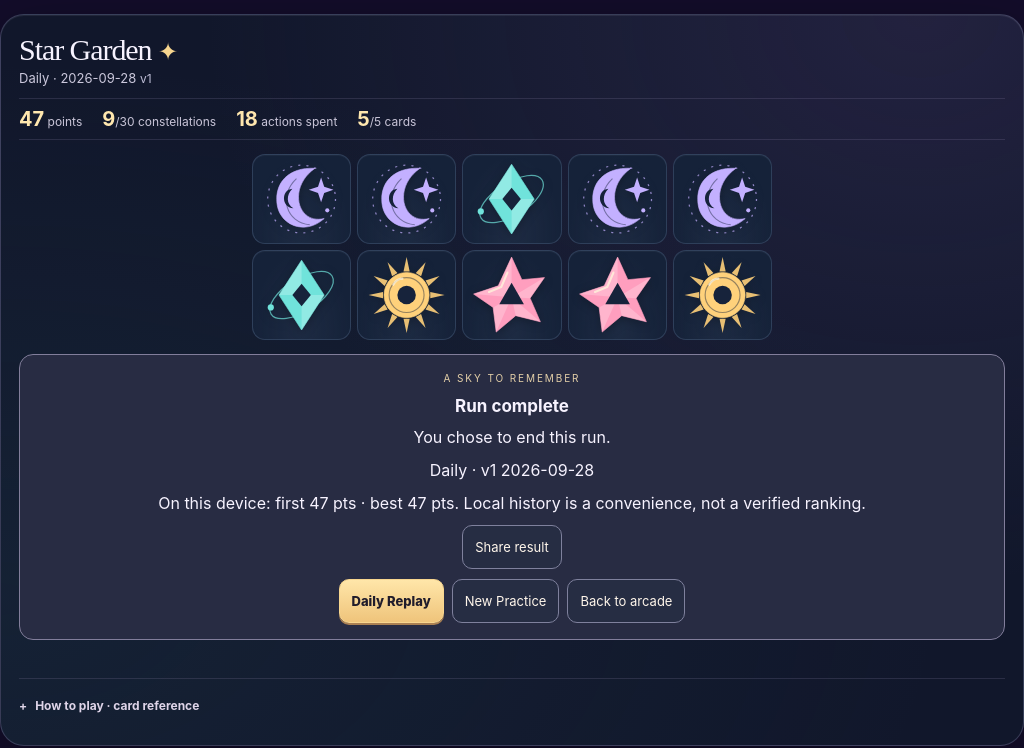
Test: Star Garden presentation › provides spoiler-free share fallback and first/best local history without replacing an active board
Click the button "Share result".
click(512, 547)  # box [462,525,562,569]
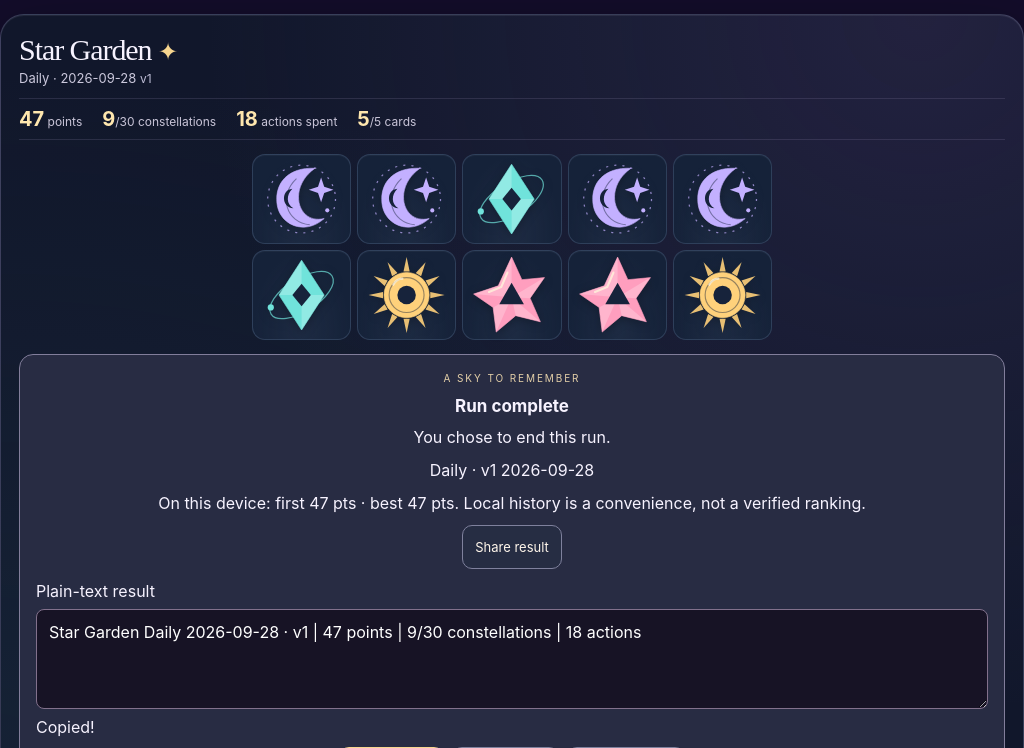
Check: the text box labelled "Plain-text result" holds "Star Garden Daily 2026-09-28 · v1 | 47 points | 9/30 constellations | 18 actions", box [36,609,988,709]
